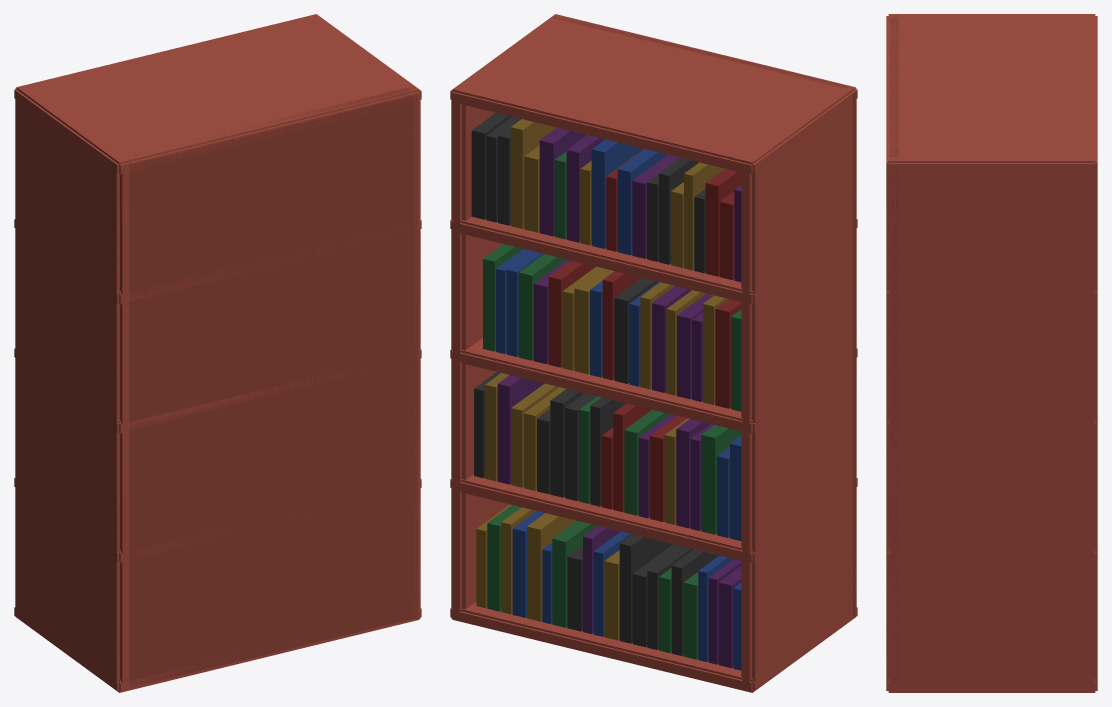
Rendered from rich_mahogany_bookcase_v0.glb.
The picture shows the model from 3 angles, left to right: view 1: azimuth 30°, elevation 25°; view 2: azimuth 150°, elevation 25°; view 3: azimuth 270°, elevation 25°; orthographic projection.
Parts seen in each view (by area): view 1: rich_mahogany_bookcase_v0; view 2: rich_mahogany_bookcase_v0; view 3: rich_mahogany_bookcase_v0.
Boxes of the visible parts, box(x1,y1,x2,y2) form: rich_mahogany_bookcase_v0: box(14, 14, 421, 692); rich_mahogany_bookcase_v0: box(450, 14, 857, 692); rich_mahogany_bookcase_v0: box(886, 14, 1097, 692).
Bounding box in the file's own units: 1.5 × 2.5 × 0.9.
